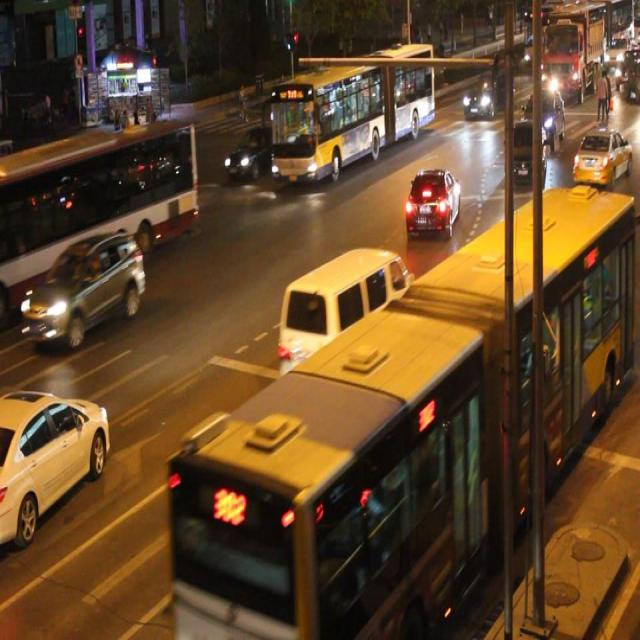car: (1, 387, 110, 536), (20, 231, 145, 346), (404, 164, 460, 239), (572, 125, 630, 182), (224, 127, 280, 176), (503, 120, 544, 186)
truck: (278, 245, 409, 378)
van: (171, 189, 631, 640), (1, 119, 195, 304), (269, 46, 434, 174)
